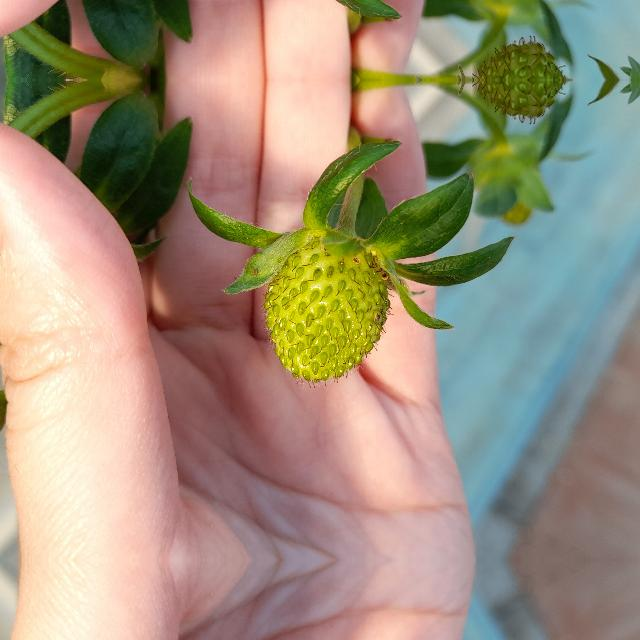Health_25: (260, 236, 394, 388)
